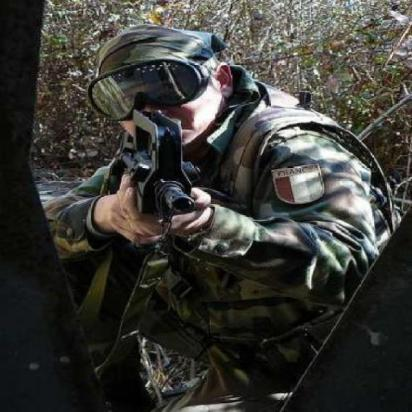Gun: (97, 104, 249, 240)
